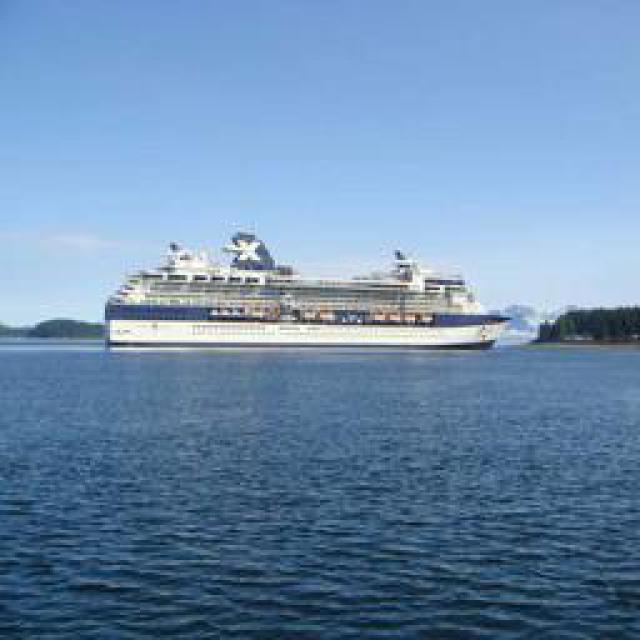Ship: (114, 228, 514, 356)
